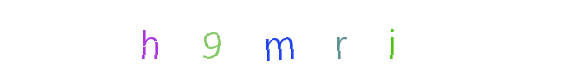9: (226, 0, 306, 80)
H: (147, 0, 227, 80)
I: (351, 0, 431, 80)
M: (239, 0, 319, 80)
R: (248, 0, 328, 80)
